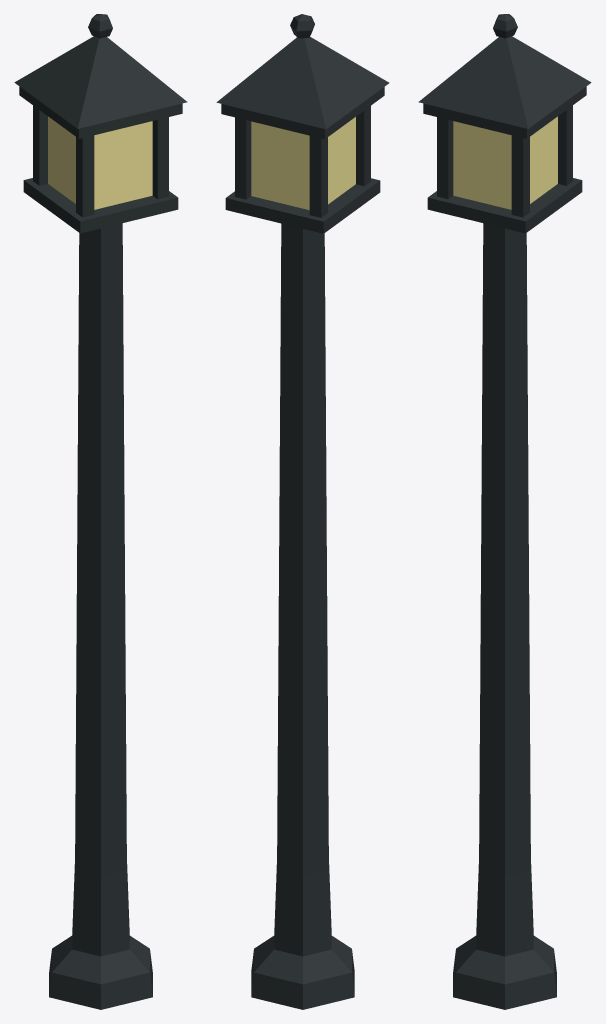
File: lantern.glb
3 renders of one model, left to right at view 1: azimuth 30°, elevation 25°; view 2: azimuth 150°, elevation 25°; view 3: azimuth 330°, elevation 25°, orthographic.
Parts seen in each view (by area): view 1: lantern-m; view 2: lantern-m; view 3: lantern-m.
Part boxes in pixels (x1,y1,x2,y2): lantern-m: (14,14,187,1009); lantern-m: (216,14,389,1009); lantern-m: (418,14,591,1009).
Bounding box in the file's own units: 0.3818 × 3.22 × 0.3818.
